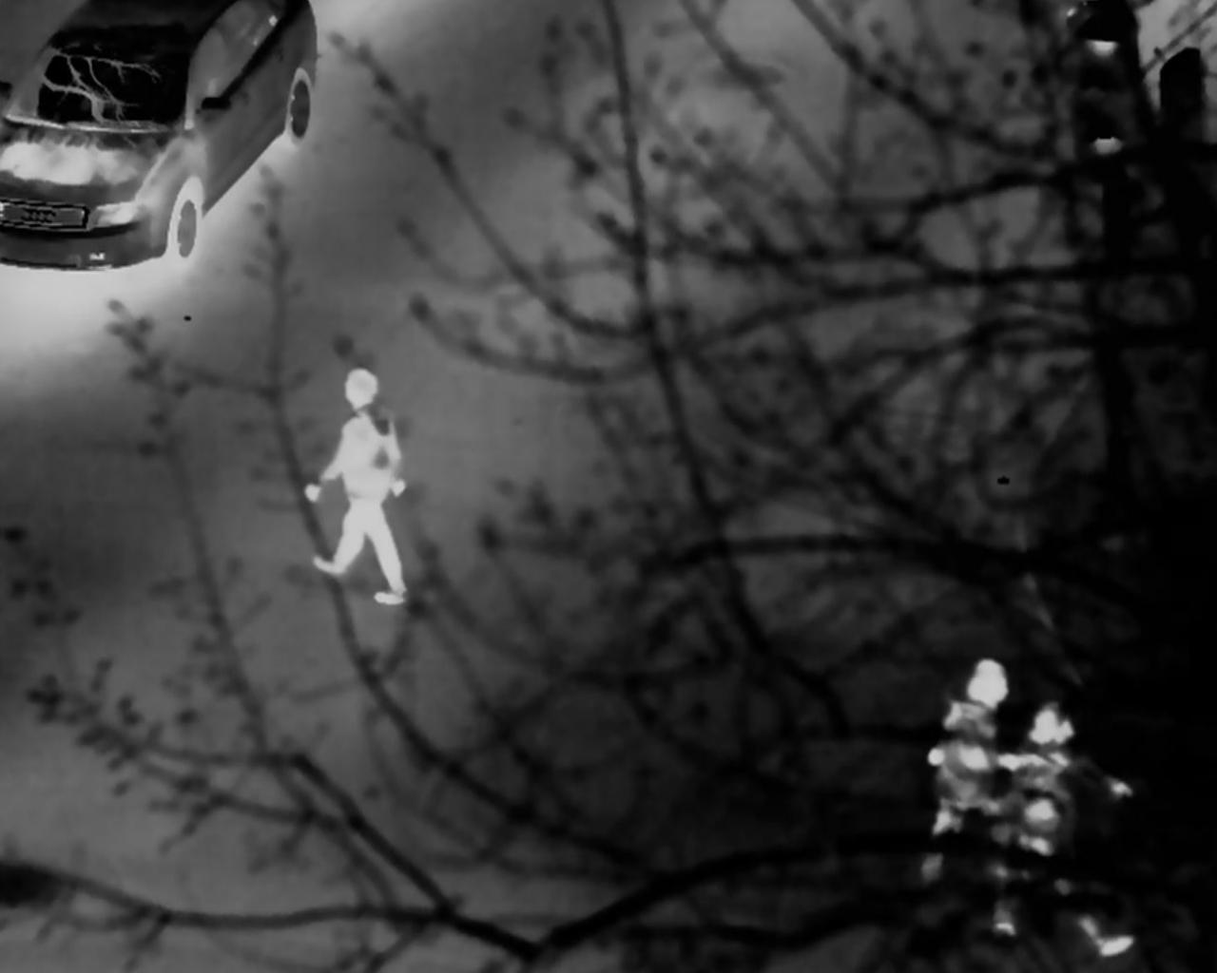person: (982, 711, 1133, 972), (303, 372, 416, 598), (920, 650, 1014, 894)
